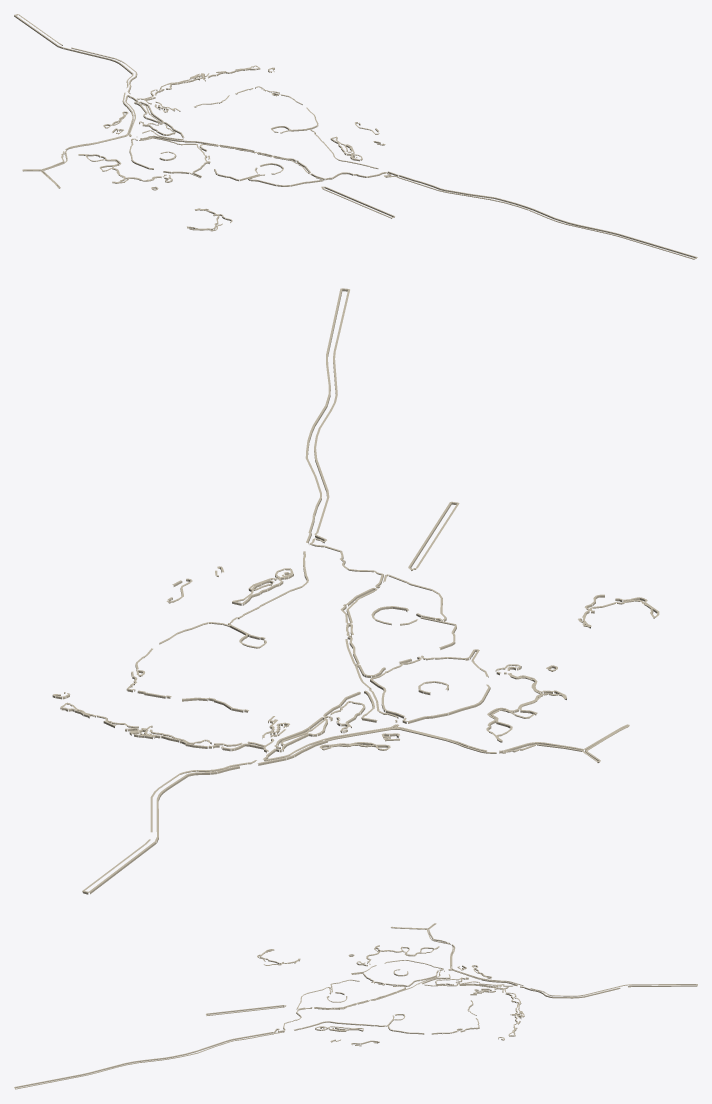
3 renders of one model, top to bottom at view 1: azimuth 30°, elevation 25°; view 2: azimuth 150°, elevation 25°; view 3: azimuth 270°, elevation 25°, orthographic. The views are drawn at different scales.
Bounding box in the file's own units: 35.71 × 0.095 × 62.25.
